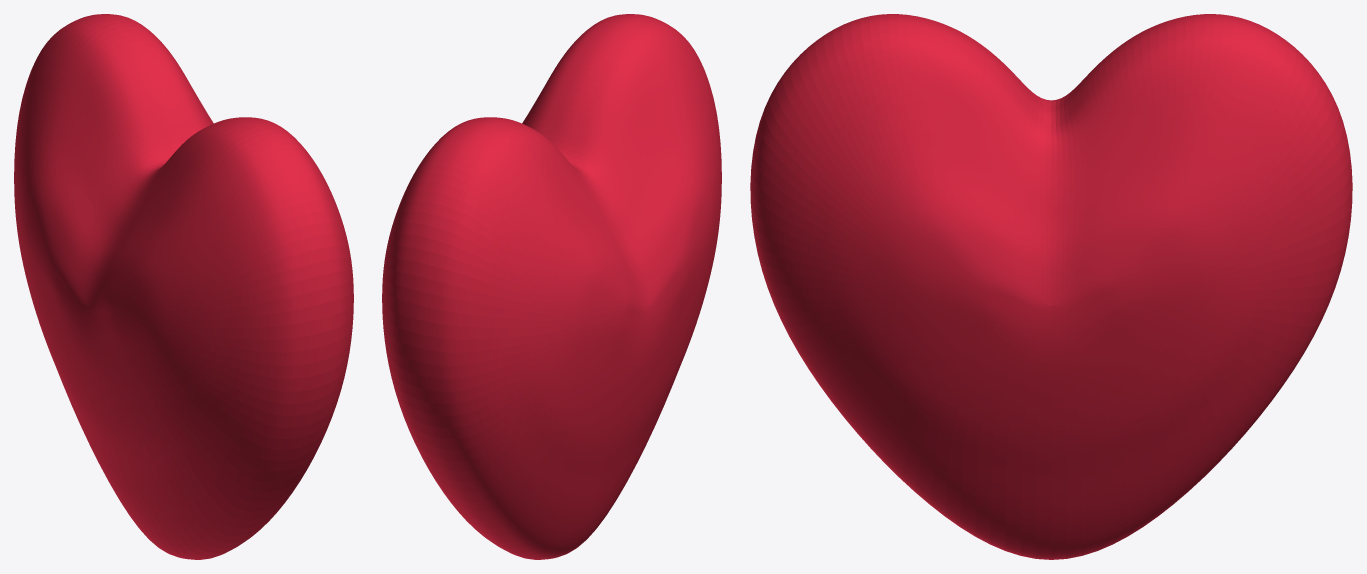
File: hearth.glb
The picture shows the model from 3 angles, left to right: view 1: azimuth 30°, elevation 25°; view 2: azimuth 150°, elevation 25°; view 3: azimuth 270°, elevation 25°; orthographic projection. The views are drawn at different scales.
Parts seen in each view (by area): view 1: Cube; view 2: Cube; view 3: Cube.
Part boxes in pixels (x1=…): Cube: x1=14, y1=14, x2=353, y2=559; Cube: x1=382, y1=14, x2=721, y2=559; Cube: x1=750, y1=14, x2=1352, y2=559.
Size of the model in its own units: 0.319 by 0.7211 by 0.7347.
